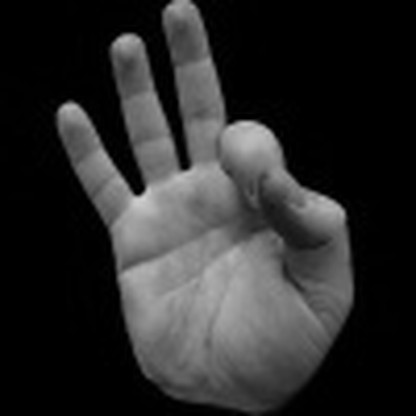f: (47, 1, 364, 399)
